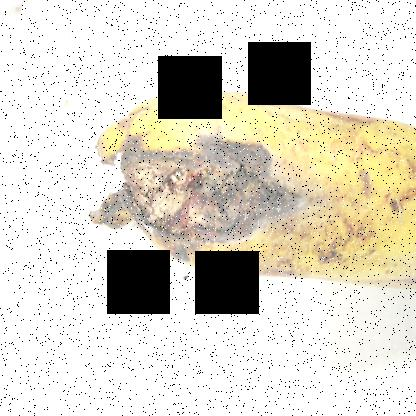ripe: (83, 71, 415, 310)
rotten: (69, 113, 295, 289)
